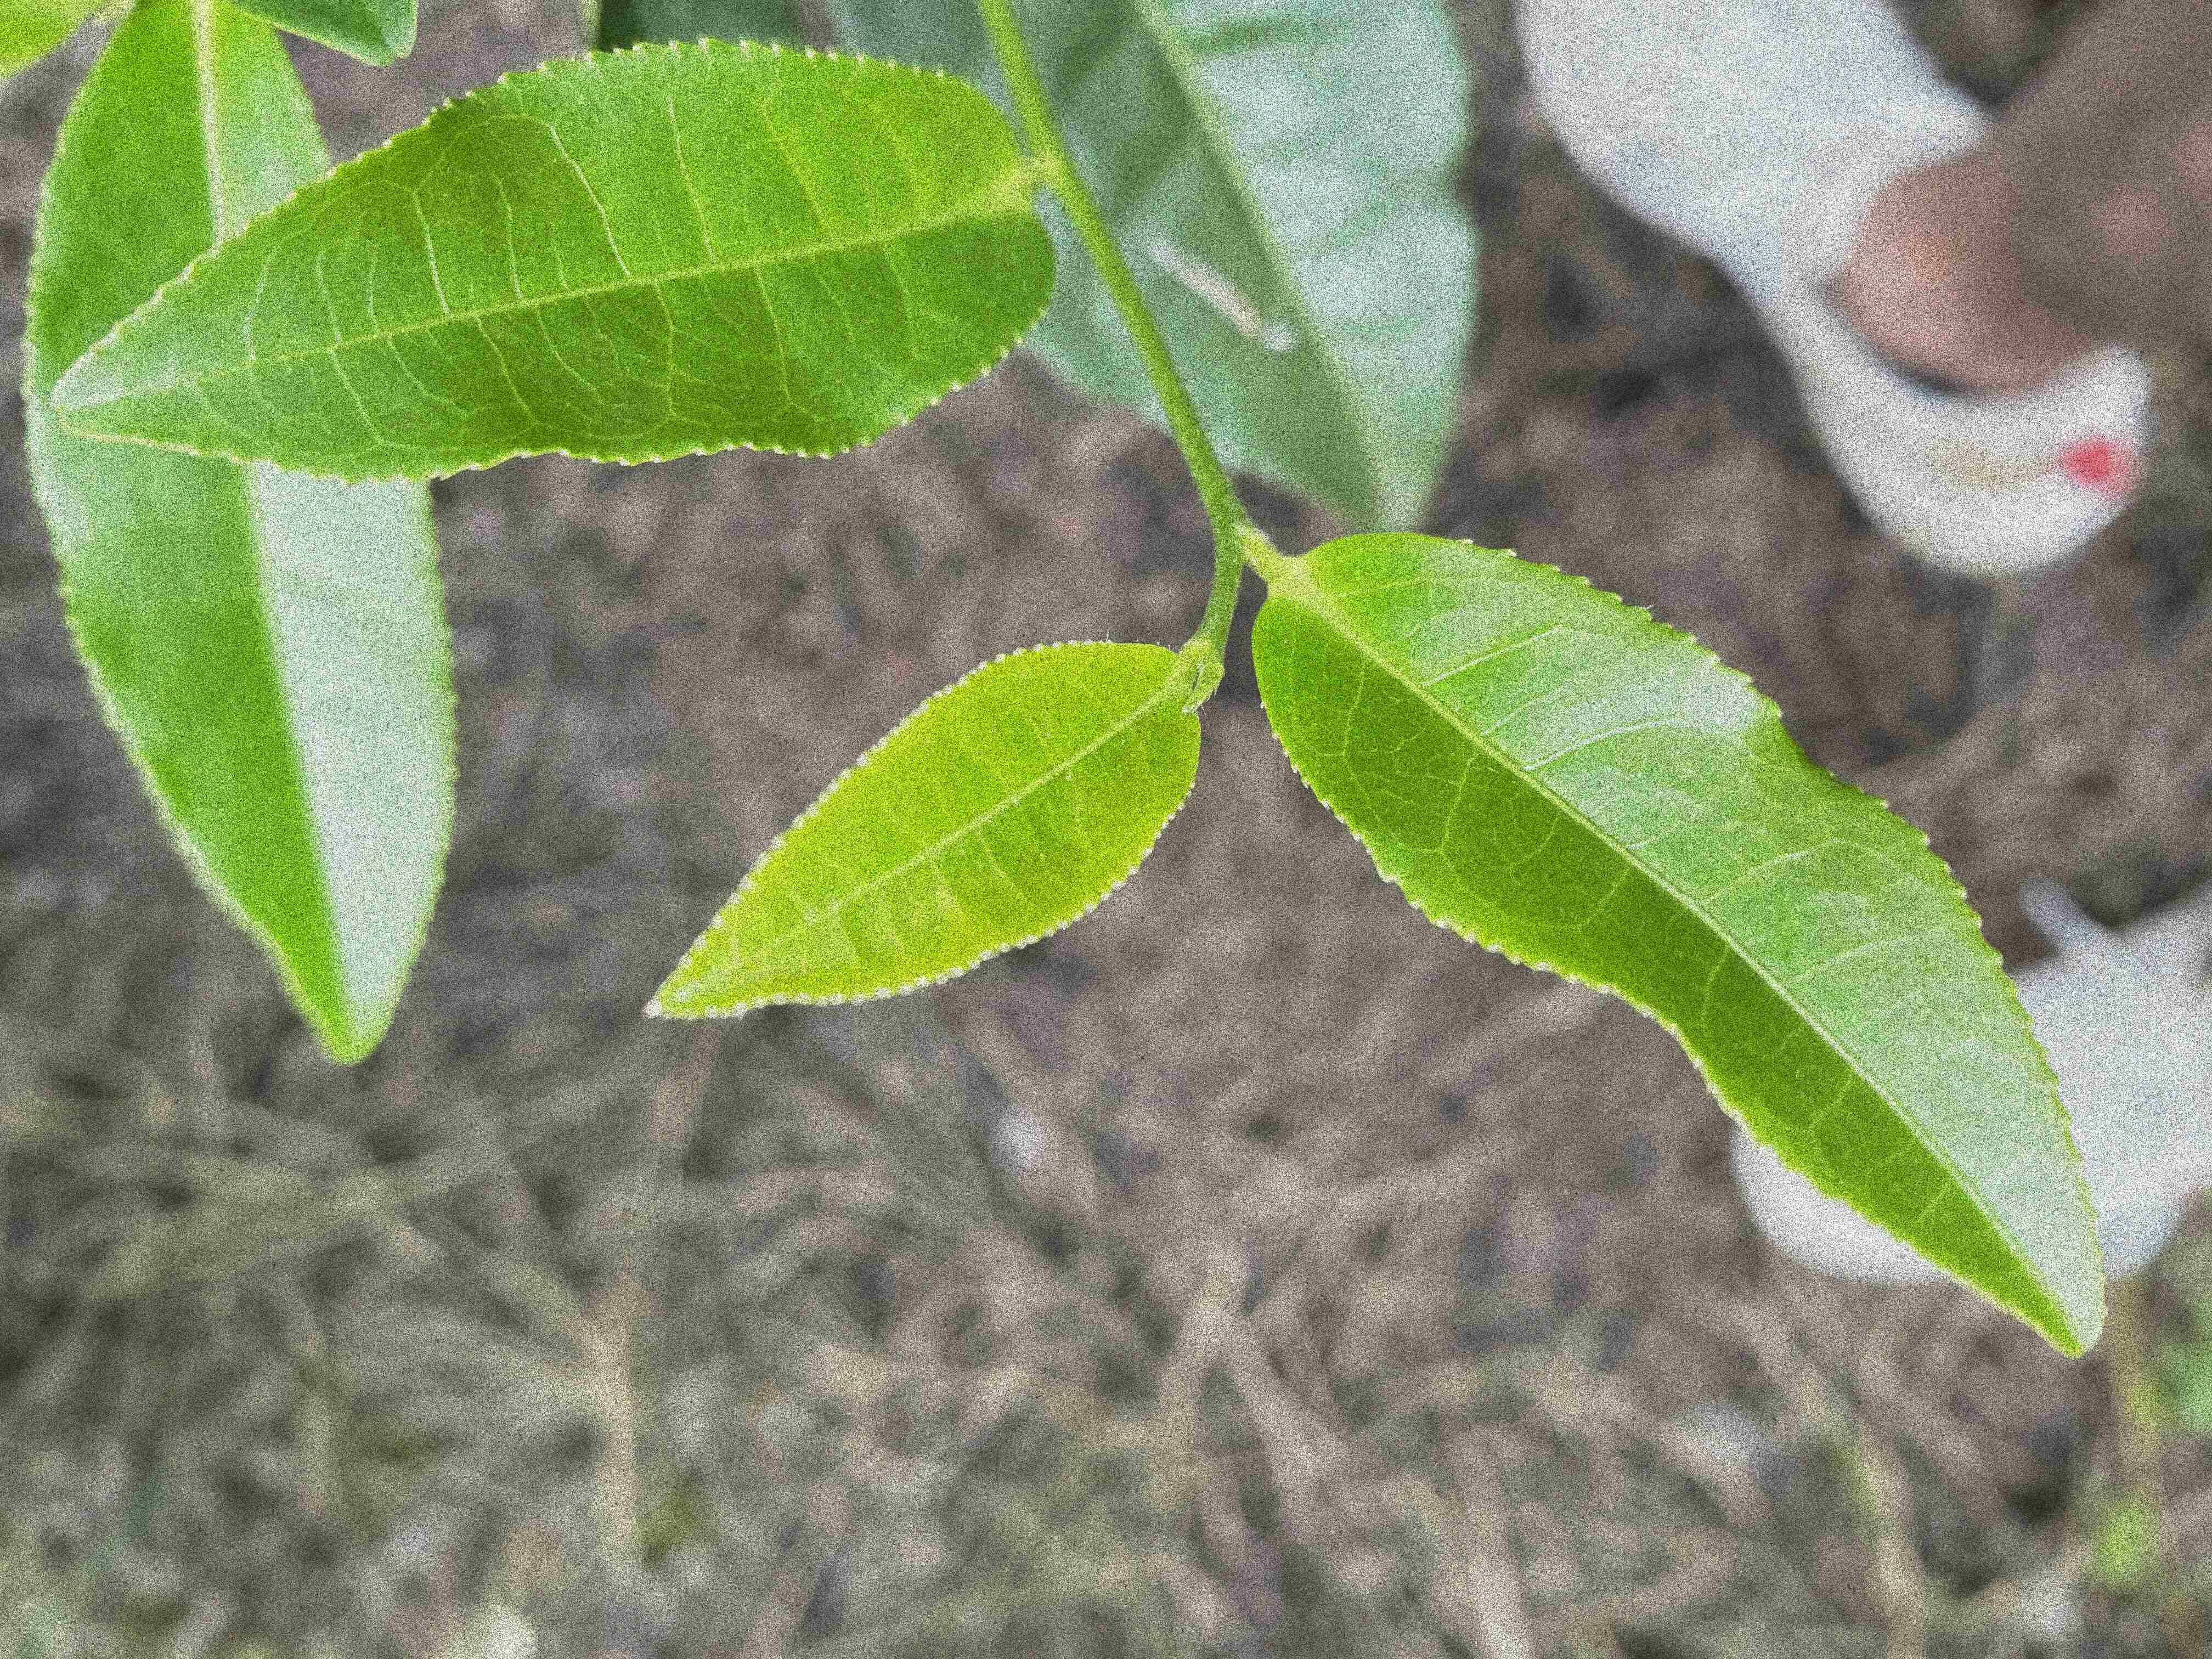healthy: (1251, 528, 2111, 1361), (21, 5, 467, 1065), (52, 33, 1061, 486), (641, 640, 1205, 1023)
